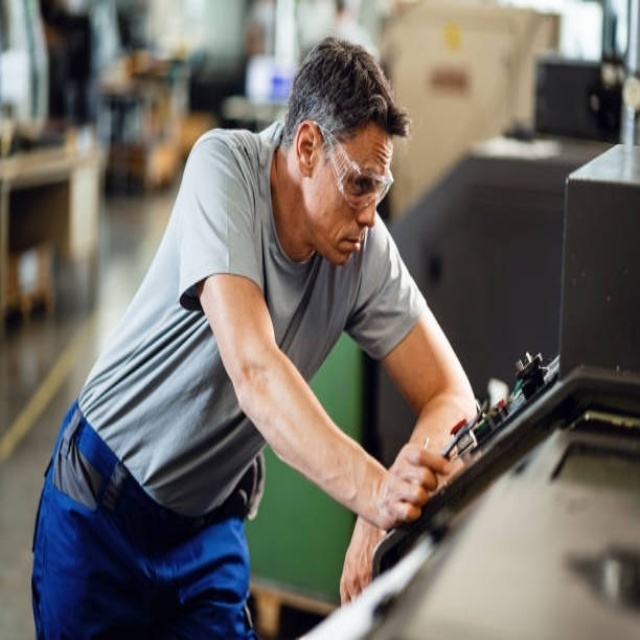Gafas: (312, 124, 393, 211)
Sin_guantes: (376, 437, 449, 528), (338, 516, 381, 605)
Sin_mascara: (326, 226, 367, 267)
